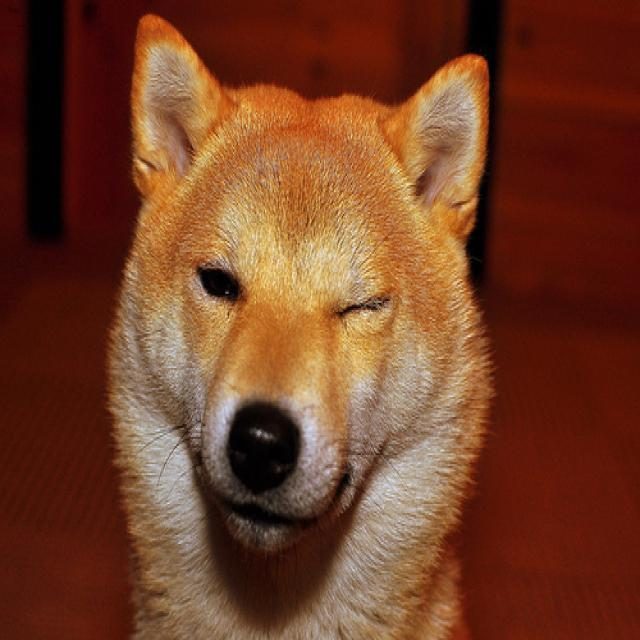dog-shiba_inu: (102, 7, 502, 636)
